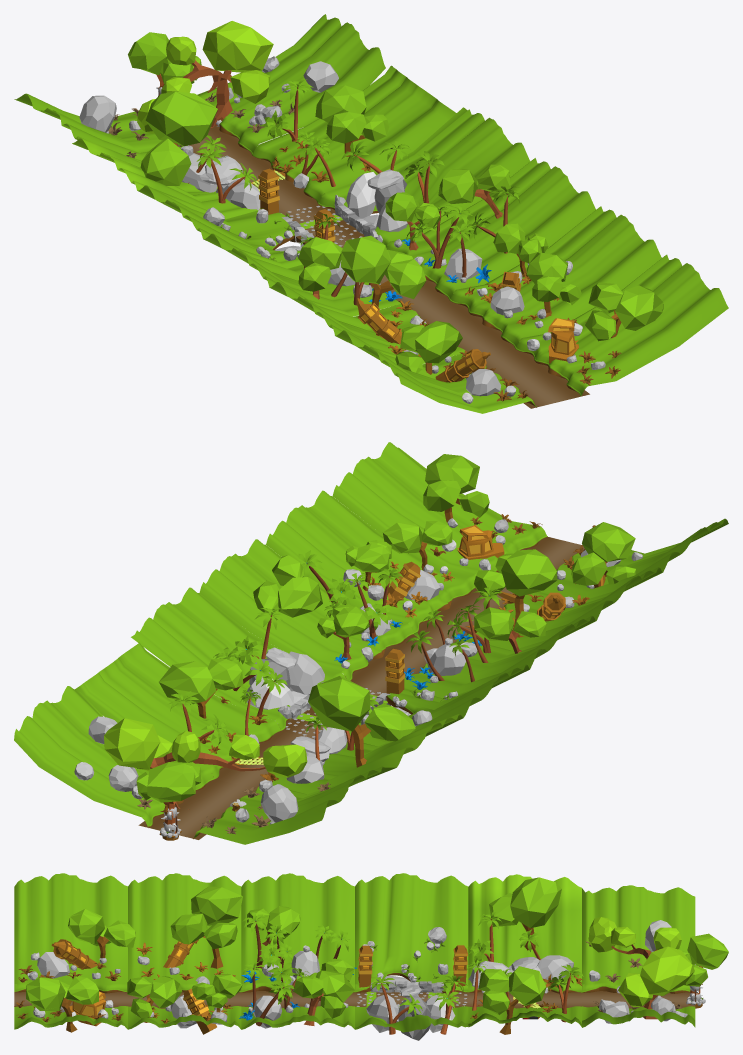
Rendered from ForestMapsandObstacles.fbx.
3 views of the same model, one above another, from view 1: azimuth 30°, elevation 25°; view 2: azimuth 150°, elevation 25°; view 3: azimuth 270°, elevation 25° (orthographic). The views are drawn at different scales.
Visible parts, largest first — view 1: Forest_Map02, Forest_Map06, Forest_Map05, Forest_Map04, Forest_Map01, Forest_Map07, Tree20; view 2: Forest_Map04, Forest_Map02, Forest_Map01, Forest_Map05, Forest_Map06, Forest_Map07, Tree20; view 3: Forest_Map07, Forest_Map06, Forest_Map05, Forest_Map04, Forest_Map02, Forest_Map01, Tree20.
Boxes of the visible parts, x1,y1,x2,y2 form: Forest_Map02: (72,65,457,219); Forest_Map06: (335,254,728,413); Forest_Map05: (269,206,661,363); Forest_Map04: (203,158,596,316); Forest_Map01: (14,14,385,162); Forest_Map07: (137,107,530,268); Tree20: (128,32,201,87); Forest_Map04: (199,539,595,698); Forest_Map02: (75,642,462,794); Forest_Map01: (14,686,396,844); Forest_Map05: (266,490,662,650); Forest_Map06: (332,442,728,600); Forest_Map07: (131,587,529,746); Tree20: (136,761,201,833); Forest_Map07: (355,873,471,1040); Forest_Map06: (14,873,135,1032); Forest_Map05: (127,873,242,1034); Forest_Map04: (239,873,356,1029); Forest_Map02: (466,874,583,1034); Forest_Map01: (582,885,695,1027); Tree20: (678,933,728,986).
Bounding box in the file's own units: 11528 × 4020 × 25197.
1 material, 1 textured.
